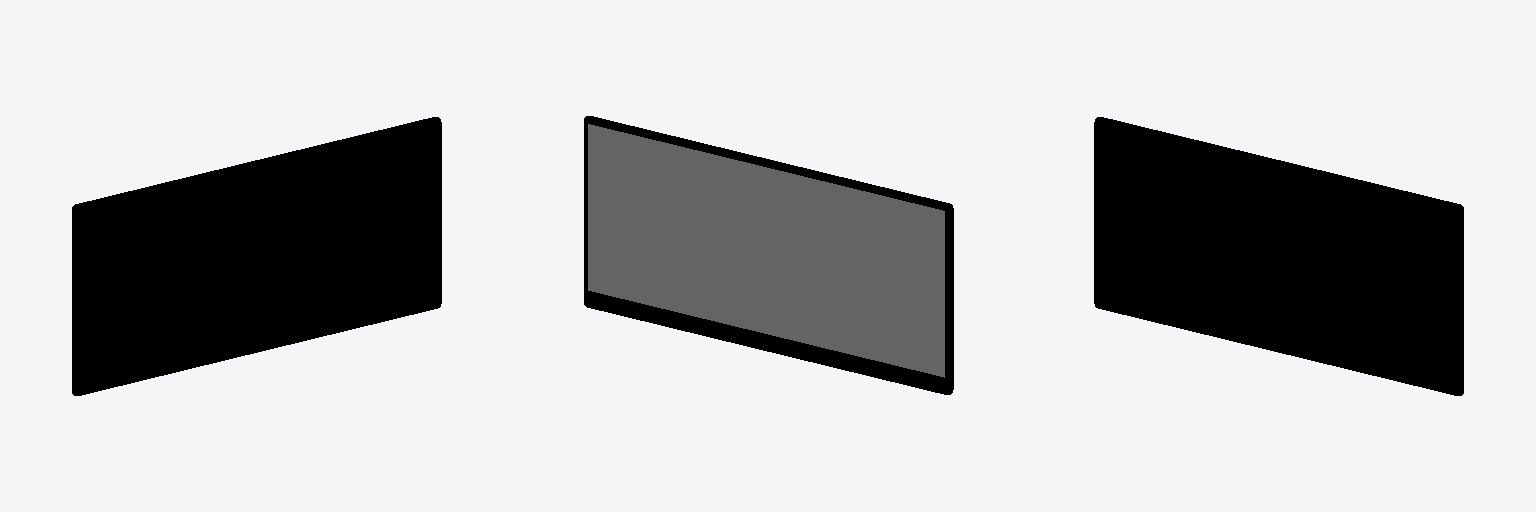
The model's file is televisao.obj.
3 renders of one model, left to right at view 1: azimuth 30°, elevation 25°; view 2: azimuth 150°, elevation 25°; view 3: azimuth 330°, elevation 25°, orthographic.
Parts seen in each view (by area): view 1: screen; view 2: screen; view 3: screen.
Boxes of the visible parts, box(x1,y1,x2,y2) form: screen: box(72, 117, 441, 395); screen: box(584, 116, 953, 394); screen: box(1094, 117, 1463, 395).
Size of the model in its own units: 80.14 by 39.77 by 2.56.